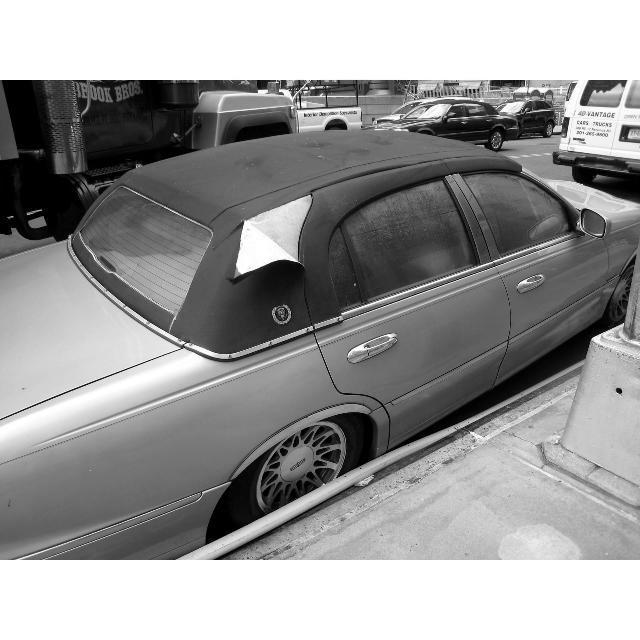quaterpanel-dent: (234, 193, 311, 287)
